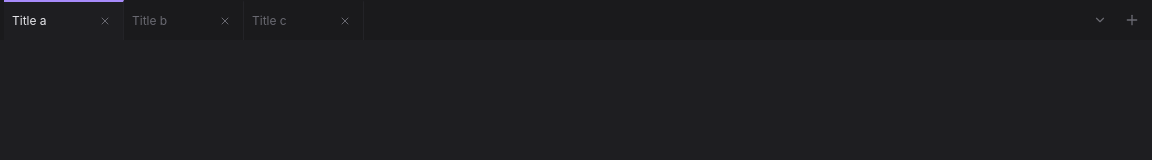
<TabStrip /> ghost drag (MTR ghost + dim) › POLISH-GHOST: ghost renders a real TabPill with a visible Close button
The image size is (1152, 160).
Press the mouse on the text "Title a": (64, 20) [4,0,124,40]
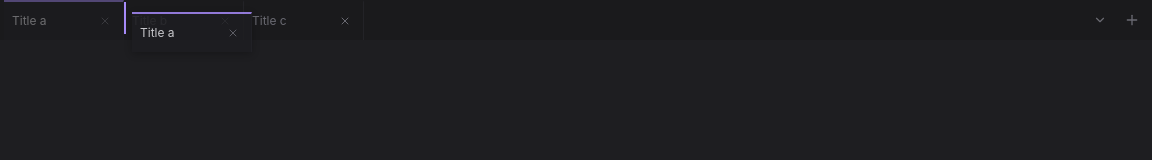
Result: the element with test id "tab-drag-ghost" is shown at [132,12,252,52]
Result: the 2nd button named "Close" is shown at [223,23,243,43]
